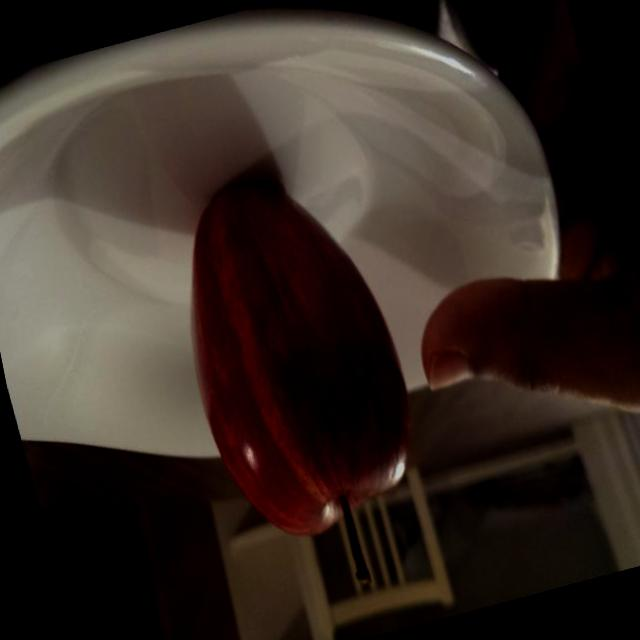Apple: (137, 136, 459, 624)
Finger: (398, 257, 573, 440)
